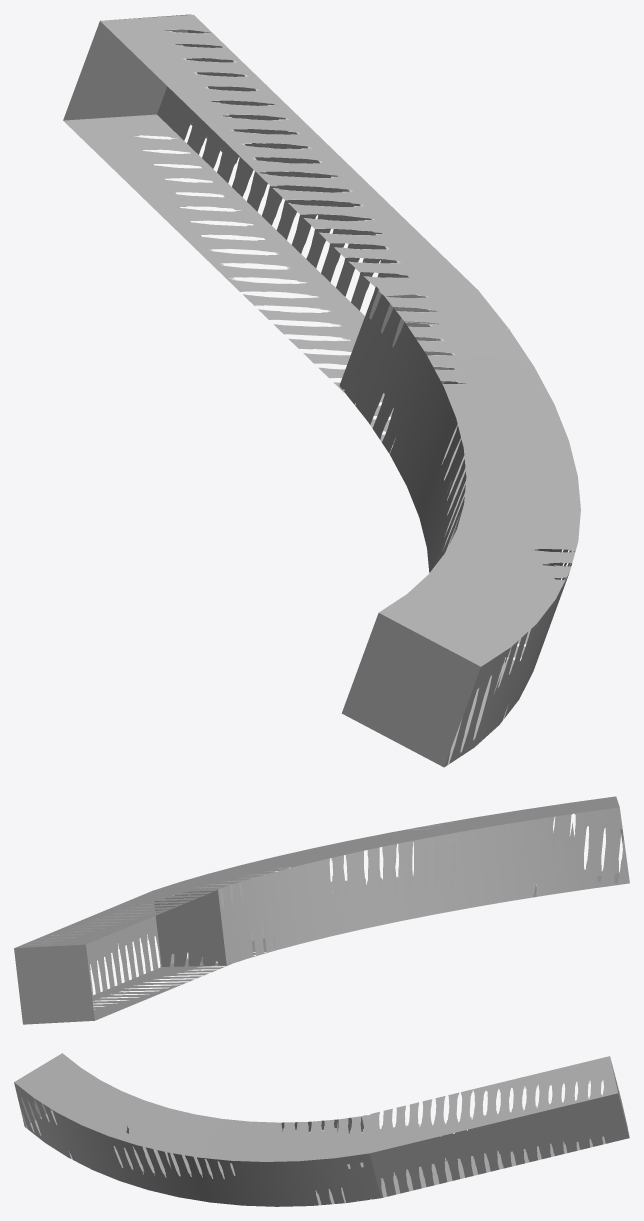
Rendered from original-17.obj.
The picture shows the model from 3 angles, top to bottom: view 1: azimuth 30°, elevation 25°; view 2: azimuth 150°, elevation 25°; view 3: azimuth 270°, elevation 25°; orthographic projection. The views are drawn at different scales.
Visible parts, largest first — view 1: mesh16/mesh16-geometry#mesh16-geometry; view 2: mesh16/mesh16-geometry#mesh16-geometry; view 3: mesh16/mesh16-geometry#mesh16-geometry.
Part boxes in pixels (x1,y1,x2,y2): mesh16/mesh16-geometry#mesh16-geometry: [63, 14, 580, 767]; mesh16/mesh16-geometry#mesh16-geometry: [14, 796, 629, 1024]; mesh16/mesh16-geometry#mesh16-geometry: [14, 1053, 629, 1206].
Size of the model in its own units: 0.0273 by 0.0167 by 0.0672.
